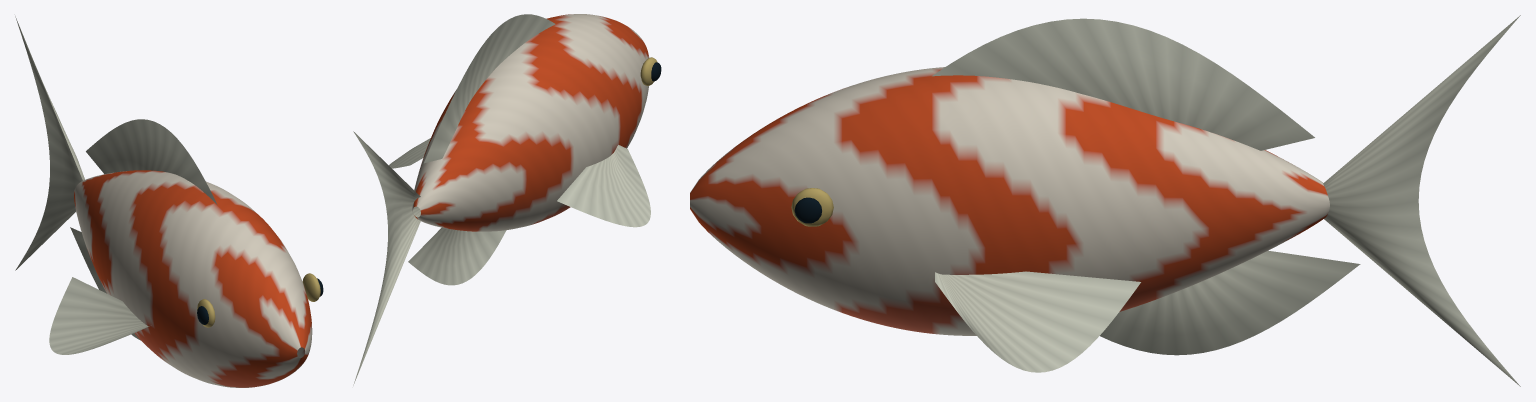
Rendered from koi.glb.
3 renders of one model, left to right at view 1: azimuth 30°, elevation 25°; view 2: azimuth 150°, elevation 25°; view 3: azimuth 270°, elevation 25°, orthographic. The views are drawn at different scales.
Visible parts, largest first — view 1: Ocean Slice koi; view 2: Ocean Slice koi; view 3: Ocean Slice koi.
Boxes of the visible parts, x1,y1,x2,y2 form: Ocean Slice koi: [15, 16, 323, 387]; Ocean Slice koi: [353, 14, 661, 385]; Ocean Slice koi: [690, 15, 1520, 386].
Bounding box in the file's own units: 0.66 × 0.64 × 1.29.
